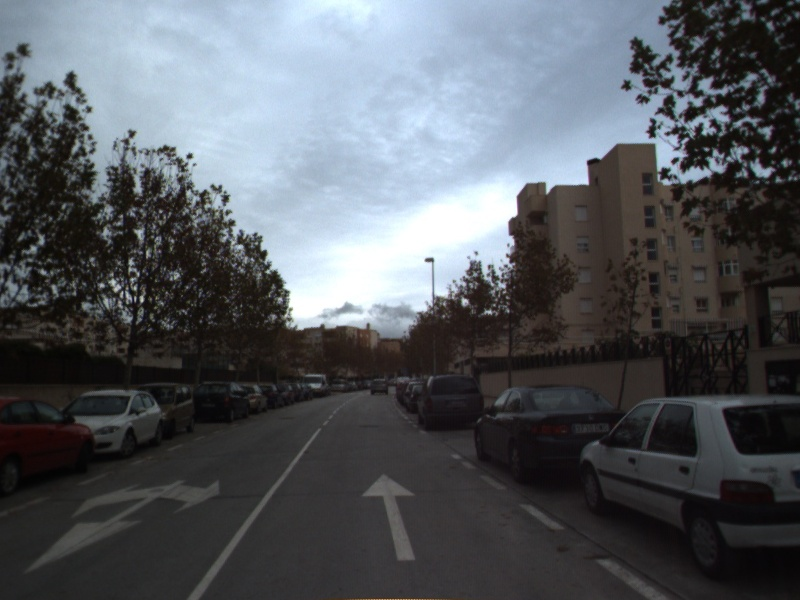STRAIGHT: (359, 471, 418, 563)
